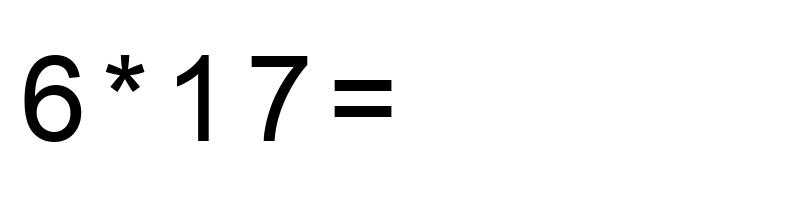*: (102, 32, 149, 167)
1: (164, 32, 231, 167)
6: (20, 32, 87, 167)
7: (246, 32, 313, 167)
=: (328, 32, 398, 167)
